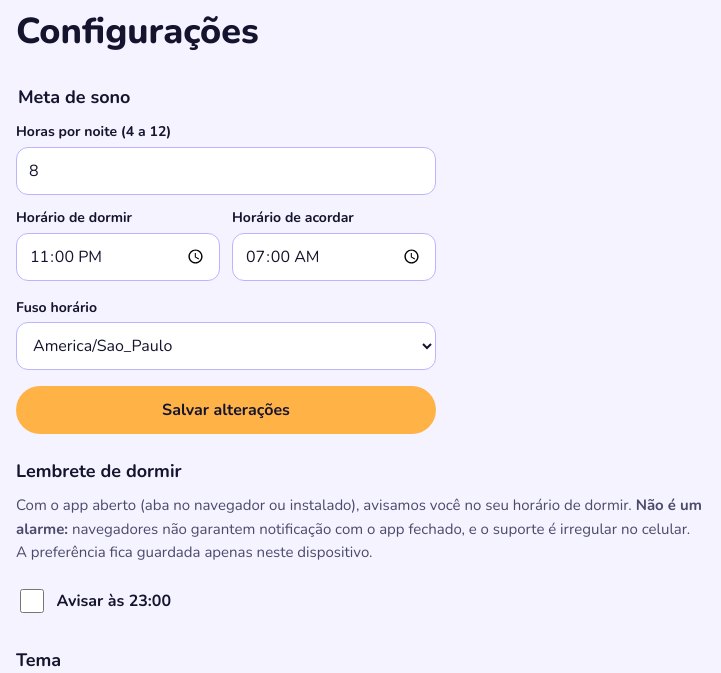
Test case: tela de Configurações › recusa meta fora de 4 e 12 horas
Replace the text in the number field labelled "Horas por noite (4 a 12)" with "3" at (226, 171), box x1=16 y1=147 x2=436 y2=195
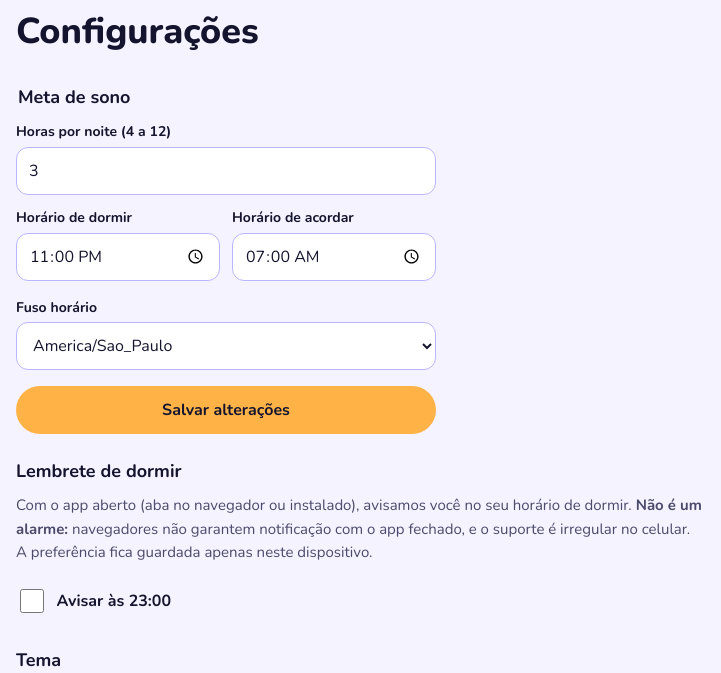
Click the button "Salvar alterações".
click(226, 410)  # box x1=16 y1=386 x2=436 y2=434
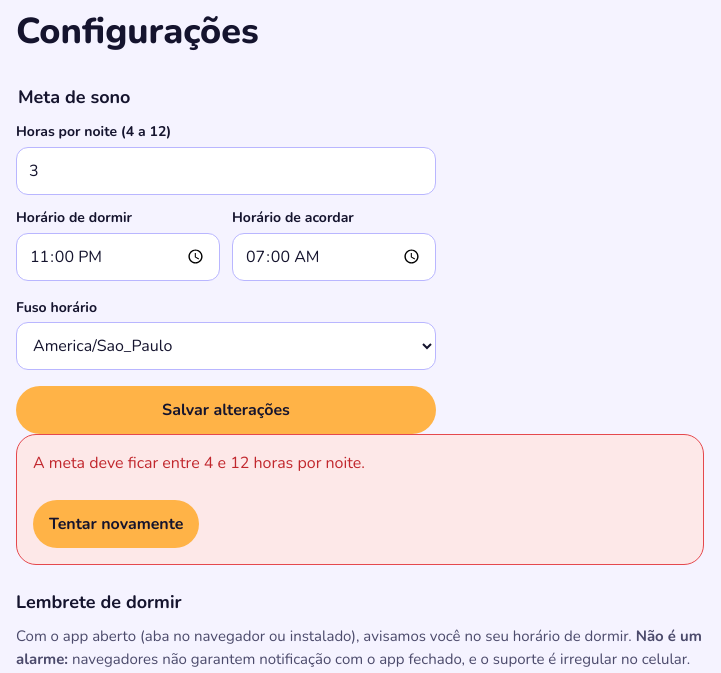
Result: the message shows "entre 4 e 12" at x1=33 y1=452 x2=365 y2=474
